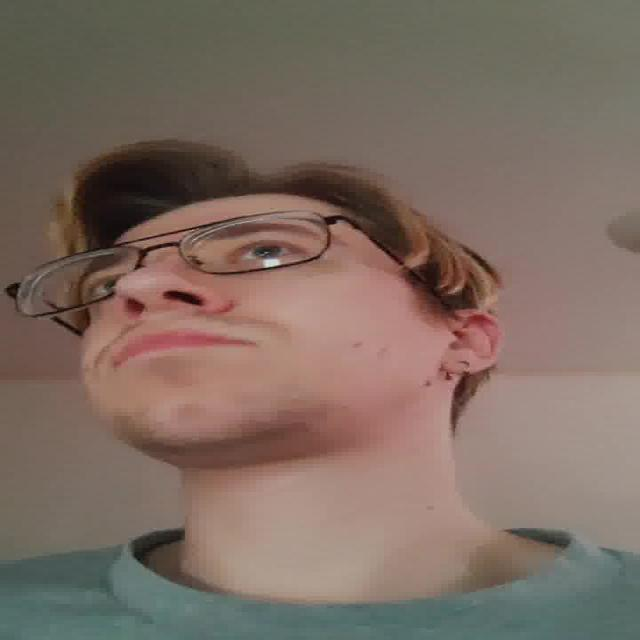earlobe: (442, 354, 484, 375)
eye: (224, 242, 308, 262), (82, 276, 124, 298)
nose: (115, 300, 229, 334)
wholeear: (442, 309, 503, 375)
